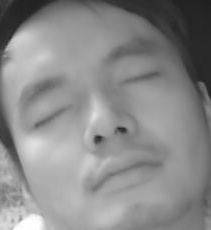blink: (36, 104, 75, 128), (119, 70, 162, 88)
mouth: (90, 147, 164, 194)
